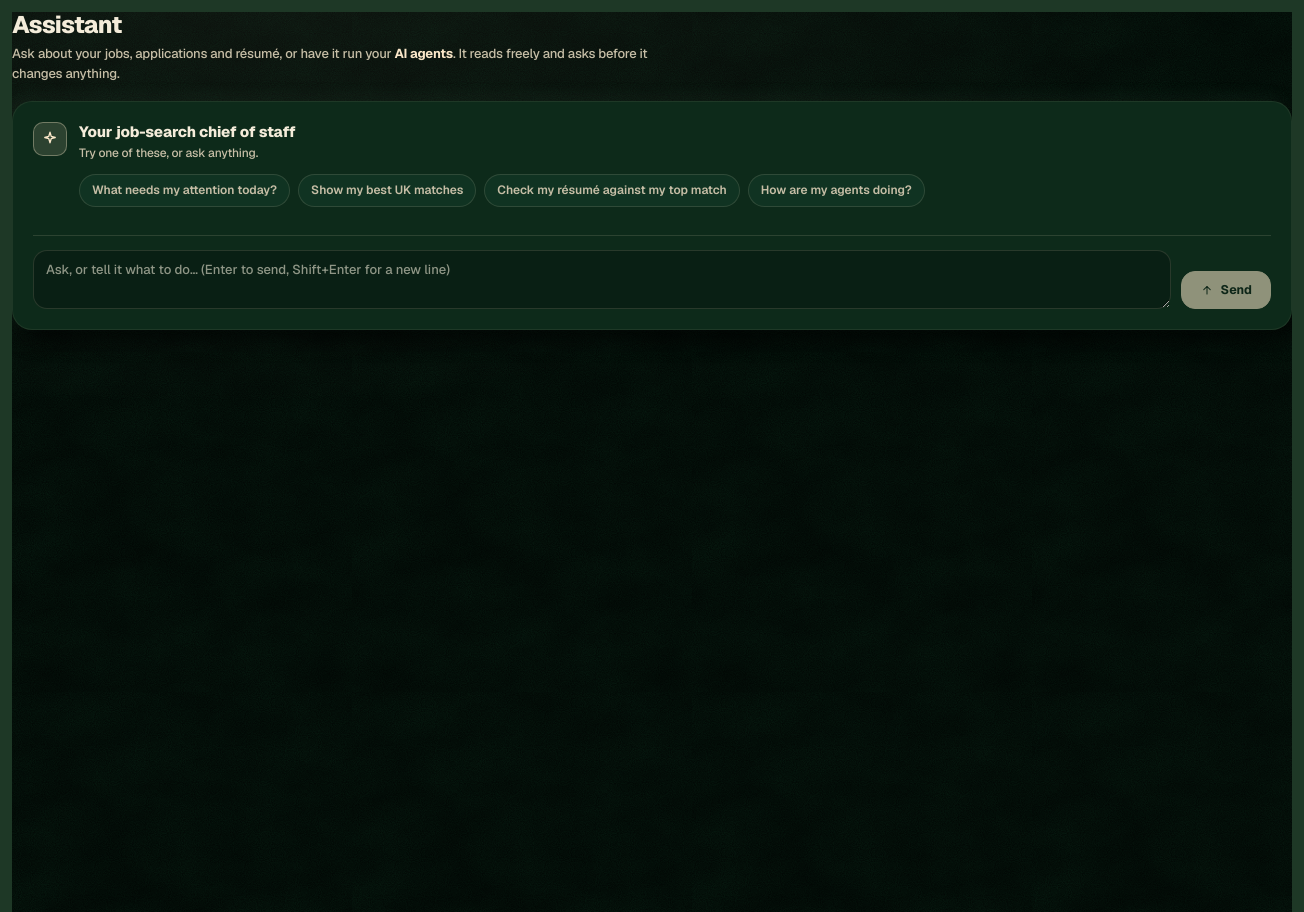
Test: AssistantPage › shows the server error and retries
This screenshot has width=1304, height=912.
Type "hello" into the text box named "Message the assistant". click: (602, 280)
box: x1=33 y1=250 x2=1171 y2=309
Then press Enter
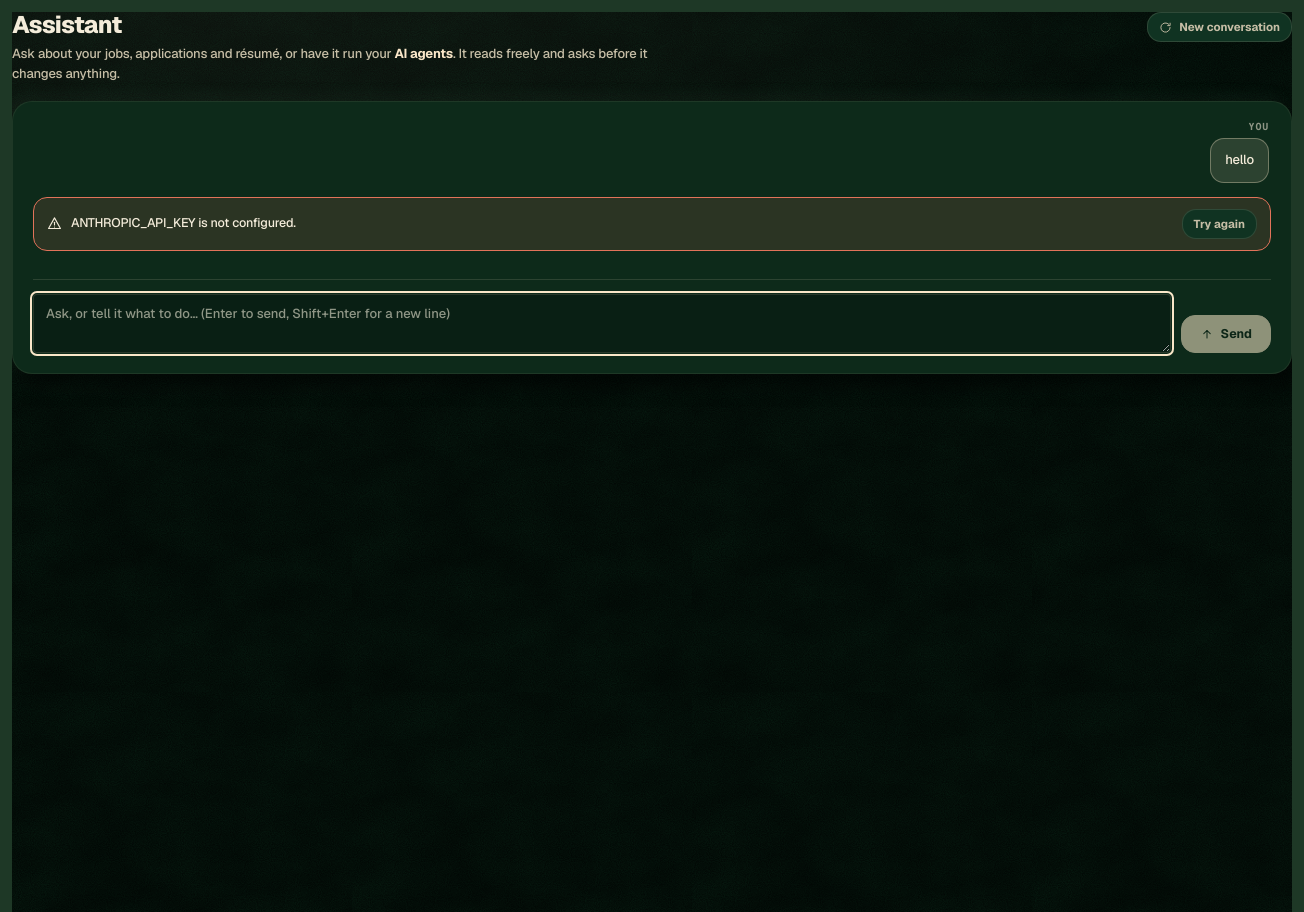
Check: the message shows "ANTHROPIC_API_KEY is not configured.", box x1=71 y1=214 x2=296 y2=232
Click the button "Try again". click: (1219, 224)
box: x1=1182 y1=208 x2=1257 y2=238
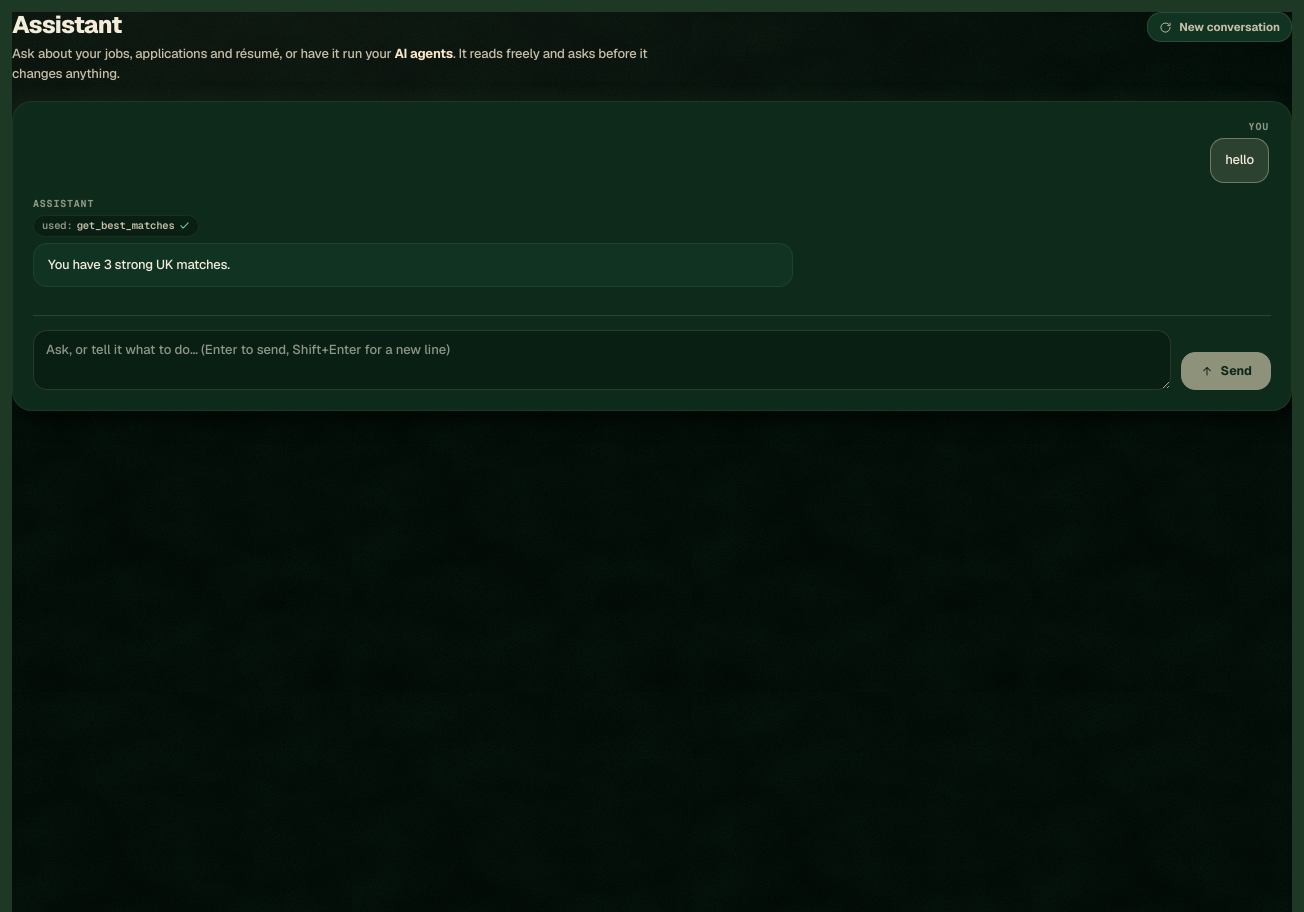
Check: the text "You have 3 strong UK matches." is shown, box x1=48 y1=256 x2=230 y2=273
